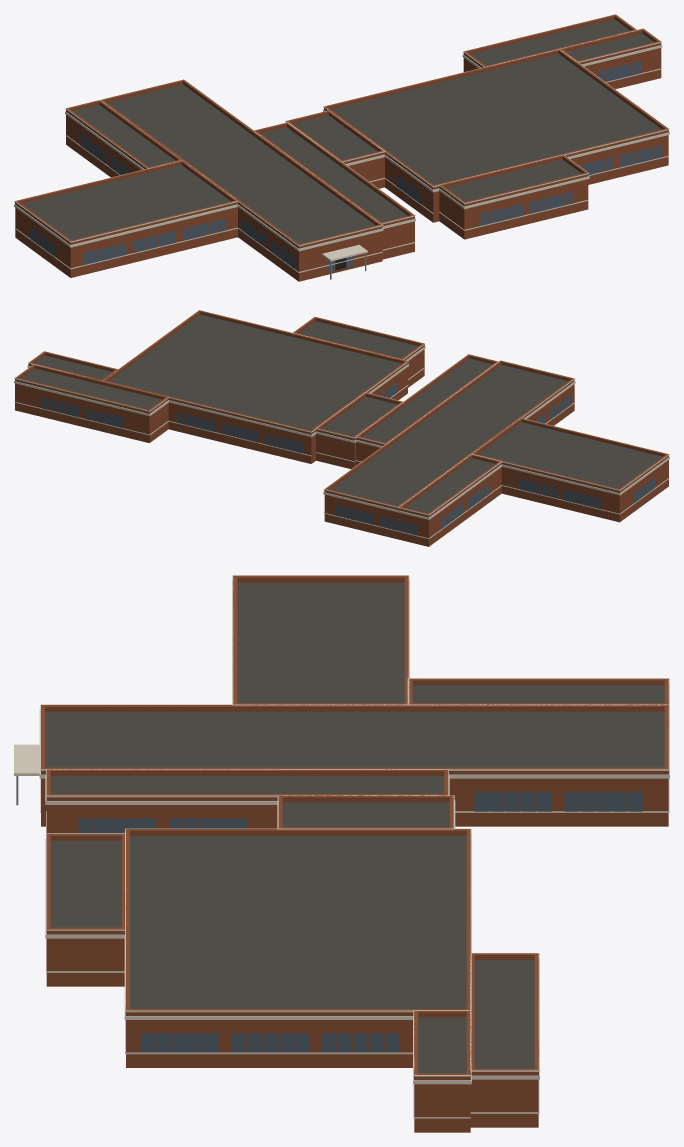
Rendered from adkins-elementary-jacksonville.glb.
The picture shows the model from 3 angles, top to bottom: view 1: azimuth 30°, elevation 25°; view 2: azimuth 150°, elevation 25°; view 3: azimuth 270°, elevation 25°; orthographic projection. The views are drawn at different scales.
Visible parts, largest first — view 1: adkins_elementary_jacksonville; view 2: adkins_elementary_jacksonville; view 3: adkins_elementary_jacksonville.
Boxes of the visible parts, x1,y1,x2,y2 form: adkins_elementary_jacksonville: [14, 14, 669, 281]; adkins_elementary_jacksonville: [14, 310, 669, 546]; adkins_elementary_jacksonville: [14, 575, 669, 1132].
Size of the model in its own units: 105 by 5.6 by 58.02.
